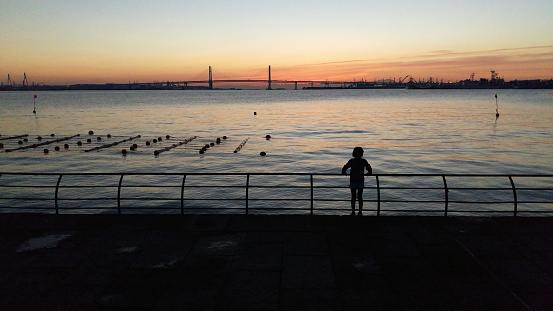em pe: (340, 139, 373, 209)
